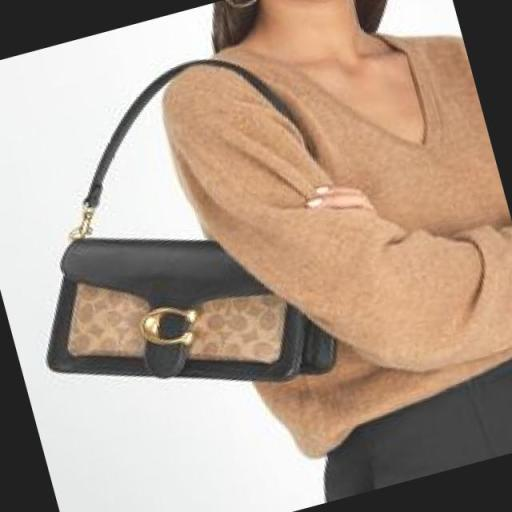bag: (33, 203, 376, 403)
